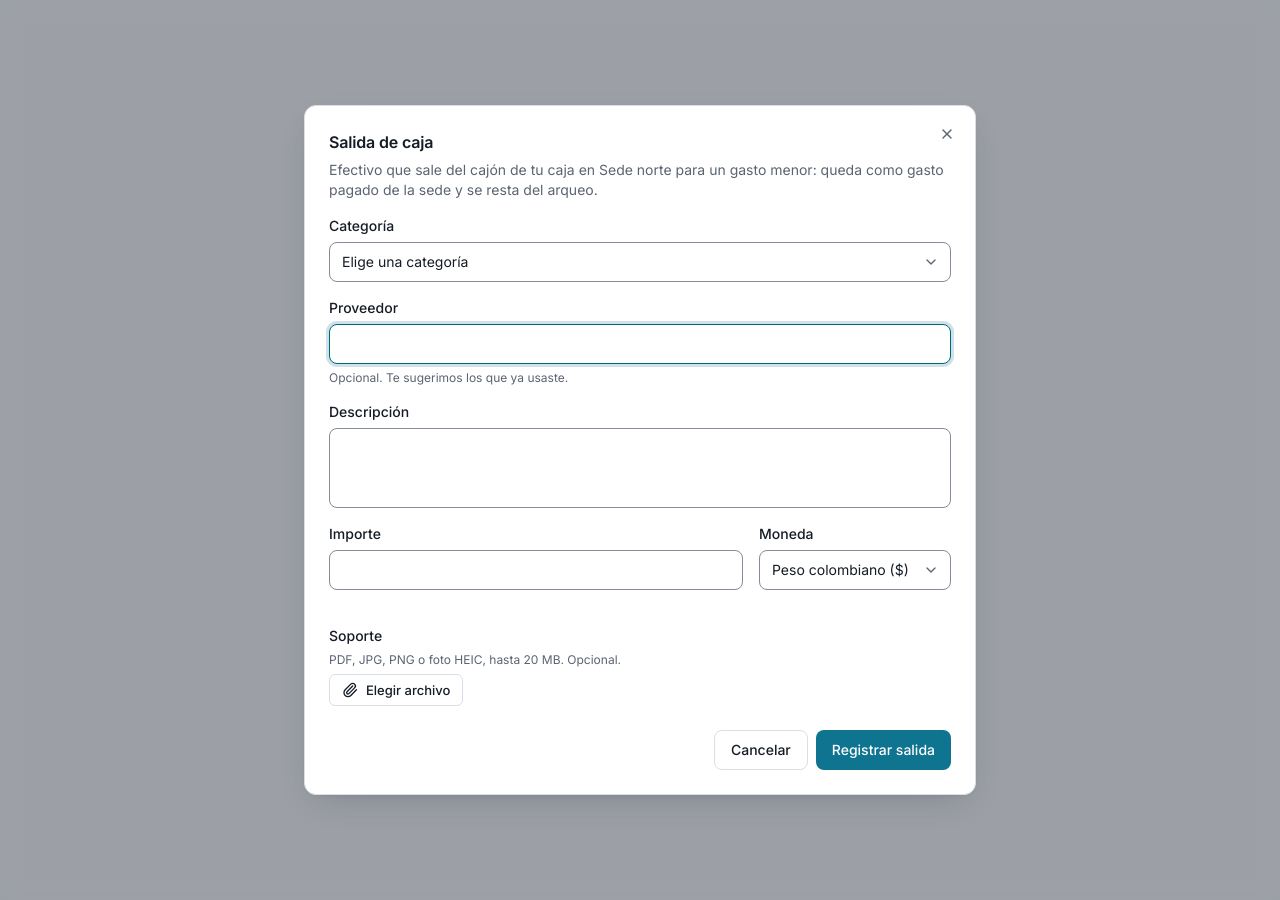
Test: CashOutflowModal (DX-274) › sin categoría ni importe no sale nada hacia la API
What coordinates should you click on to do the following:
click the button "Registrar salida"
I would click on:
 (883, 750)
Its box is x1=816 y1=730 x2=951 y2=770.
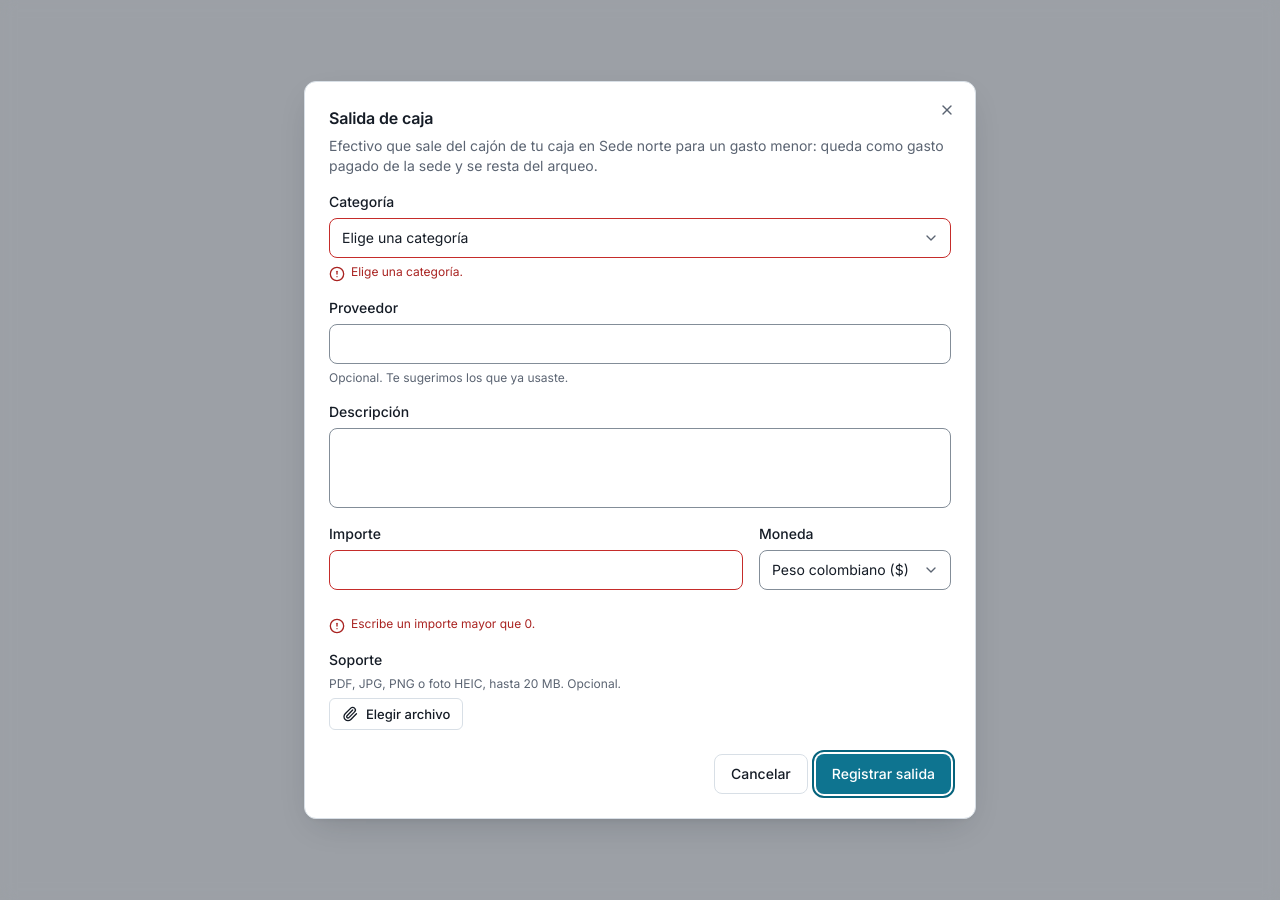
Now the text "Elige una categoría." is shown, box x1=351 y1=264 x2=463 y2=280
Now the text "Escribe un importe mayor que 0." is shown, box x1=351 y1=616 x2=535 y2=632
